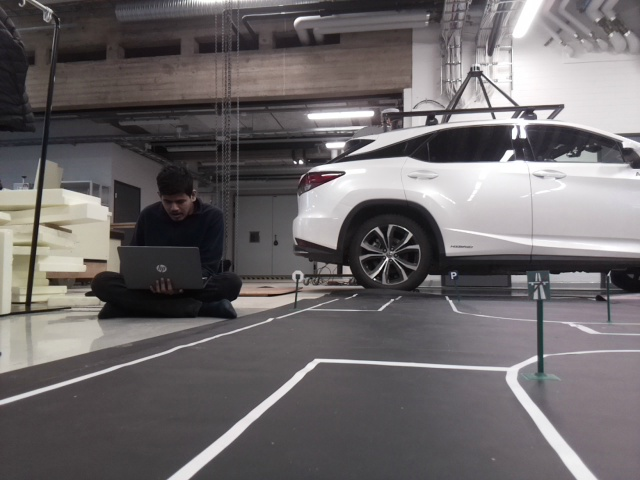HighwayExit: (527, 271, 549, 298)
Parking: (448, 271, 456, 280)
